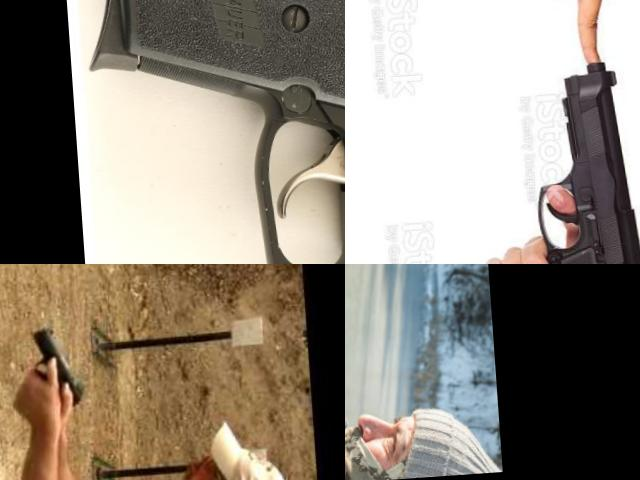handgun: (76, 0, 345, 264), (460, 55, 640, 264), (24, 322, 90, 416), (345, 264, 386, 306)
